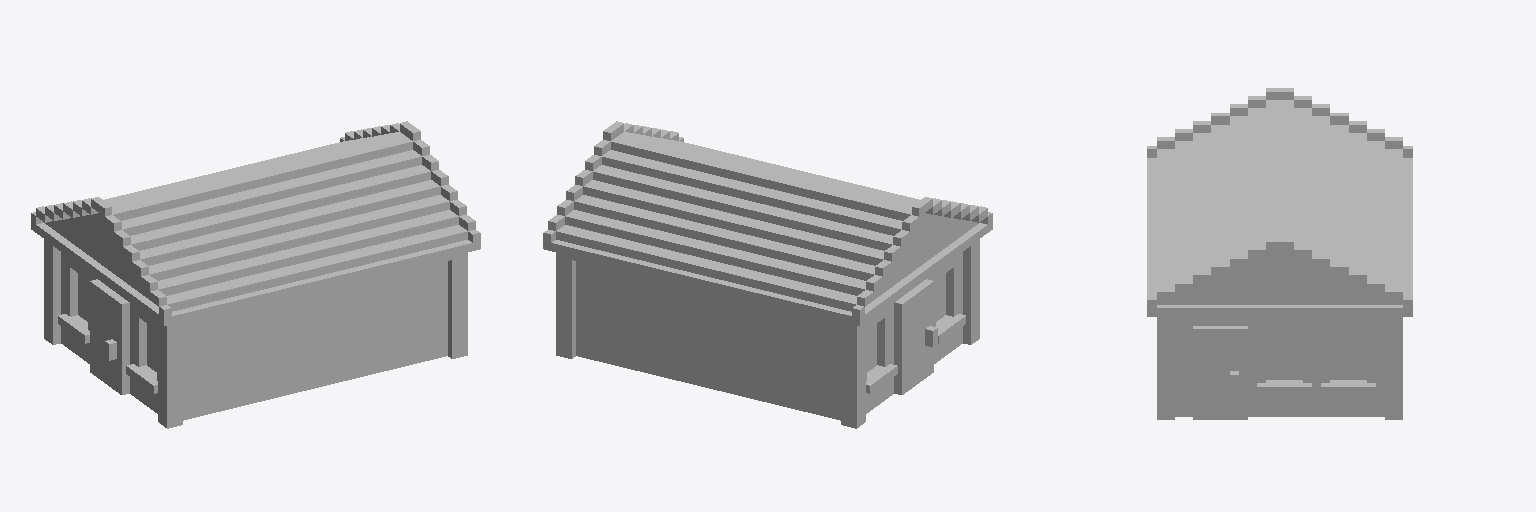
Rendered from House_V3.obj.
3 views of the same model, side by side, from view 1: azimuth 30°, elevation 25°; view 2: azimuth 150°, elevation 25°; view 3: azimuth 270°, elevation 25° (orthographic).
Visible parts, largest first — view 1: House_V3; view 2: House_V3; view 3: House_V3.
Boxes of the visible parts, x1,y1,x2,y2 form: House_V3: [31, 121, 480, 428]; House_V3: [543, 121, 992, 428]; House_V3: [1147, 88, 1412, 419].
Bounding box in the file's own units: 40 × 22 × 29.